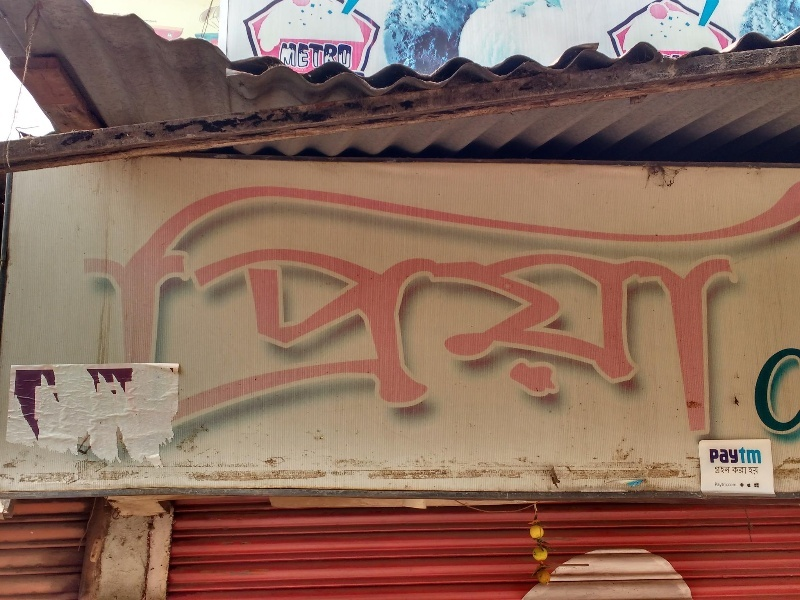text: (81, 167, 96, 434), (97, 167, 112, 434), (113, 167, 128, 434), (129, 167, 144, 434), (145, 167, 160, 434), (161, 167, 176, 434), (177, 167, 192, 434), (193, 167, 208, 434), (209, 167, 224, 434), (225, 167, 240, 434), (241, 167, 256, 434), (257, 167, 272, 434), (273, 167, 288, 434), (289, 167, 304, 434), (305, 167, 320, 434), (321, 167, 336, 434), (337, 167, 352, 434), (353, 167, 368, 434), (369, 167, 384, 434), (385, 167, 400, 434), (401, 167, 416, 434), (417, 167, 432, 434), (433, 167, 448, 434), (449, 167, 464, 434), (465, 167, 480, 434), (481, 167, 496, 434), (497, 167, 512, 434), (513, 167, 528, 434), (529, 167, 544, 434), (545, 167, 560, 434), (561, 167, 576, 434), (577, 167, 592, 434), (593, 167, 608, 434), (609, 167, 624, 434), (625, 167, 640, 434), (641, 167, 656, 434), (657, 167, 672, 434), (673, 167, 688, 434), (689, 167, 704, 434), (705, 167, 720, 434), (721, 167, 736, 434), (737, 167, 752, 434), (753, 167, 768, 434), (769, 167, 784, 434), (785, 167, 800, 434), (74, 167, 80, 434), (753, 349, 768, 440), (769, 349, 784, 440), (785, 349, 800, 440), (529, 545, 544, 600), (545, 545, 560, 600), (561, 545, 576, 600), (577, 545, 592, 600), (593, 545, 608, 600), (609, 545, 624, 600), (625, 545, 640, 600), (641, 545, 656, 600), (657, 545, 672, 600), (673, 545, 688, 600), (689, 545, 704, 600), (516, 545, 528, 600), (289, 36, 304, 74), (305, 36, 320, 74), (321, 36, 336, 74), (337, 36, 352, 74), (274, 36, 288, 74), (705, 545, 713, 600), (705, 444, 720, 465), (721, 444, 736, 465), (737, 444, 752, 465), (753, 444, 767, 465), (353, 36, 358, 74), (721, 480, 736, 489), (721, 466, 731, 476), (737, 467, 749, 475), (751, 349, 752, 440), (753, 466, 759, 476), (714, 480, 720, 489), (715, 466, 720, 476), (731, 467, 736, 475), (748, 466, 752, 476), (737, 480, 738, 489)
